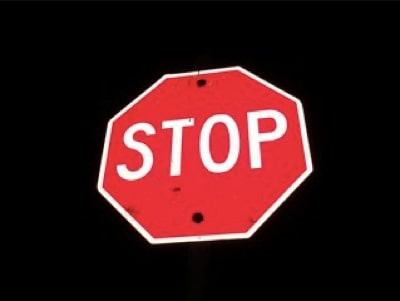StopSign: (94, 61, 316, 246)
